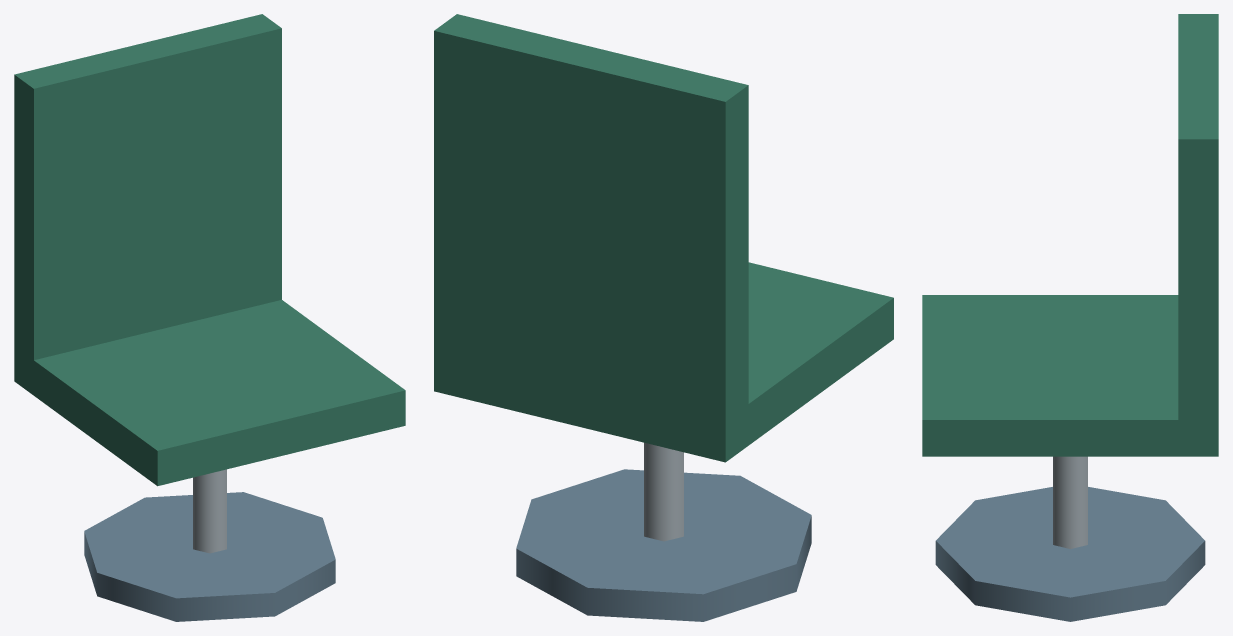
The model's file is med_med_chair.glb.
3 renders of one model, left to right at view 1: azimuth 30°, elevation 25°; view 2: azimuth 150°, elevation 25°; view 3: azimuth 270°, elevation 25°, orthographic. The views are drawn at different scales.
Visible parts, largest first — view 1: sw5e_int_med_med_chair; view 2: sw5e_int_med_med_chair; view 3: sw5e_int_med_med_chair.
Boxes of the visible parts, x1,y1,x2,y2 form: sw5e_int_med_med_chair: [14, 14, 405, 621]; sw5e_int_med_med_chair: [434, 14, 893, 621]; sw5e_int_med_med_chair: [922, 14, 1218, 621].
Bounding box in the file's own units: 0.44 × 0.8 × 0.44.
